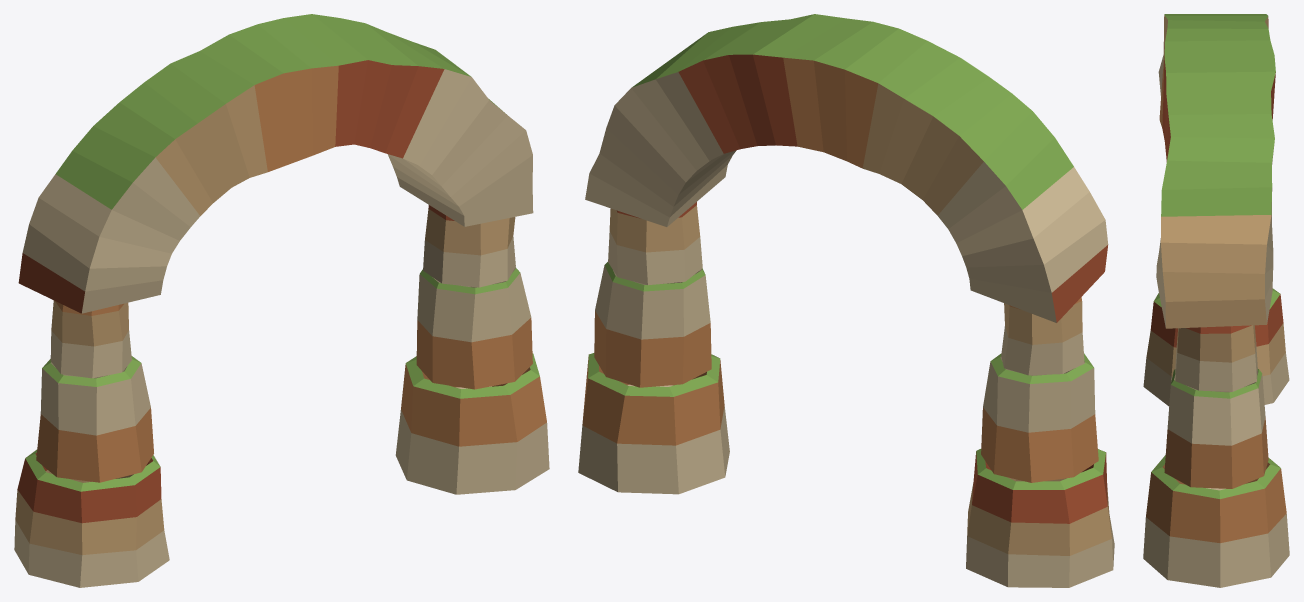
Rendered from arch.glb.
The picture shows the model from 3 angles, left to right: view 1: azimuth 30°, elevation 25°; view 2: azimuth 150°, elevation 25°; view 3: azimuth 270°, elevation 25°; orthographic projection. The views are drawn at different scales.
Parts seen in each view (by area): view 1: arch; view 2: arch; view 3: arch.
Part boxes in pixels (x1,y1,x2,y2): arch: (14,14,549,587); arch: (578,14,1114,587); arch: (1143,14,1289,587).
Bounding box in the file's own units: 27.29 × 23.36 × 7.19.
